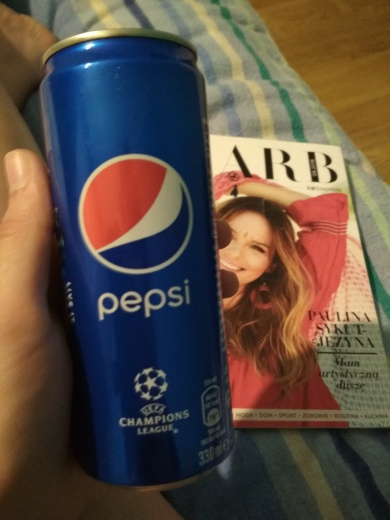pepsi: (25, 20, 239, 488)
